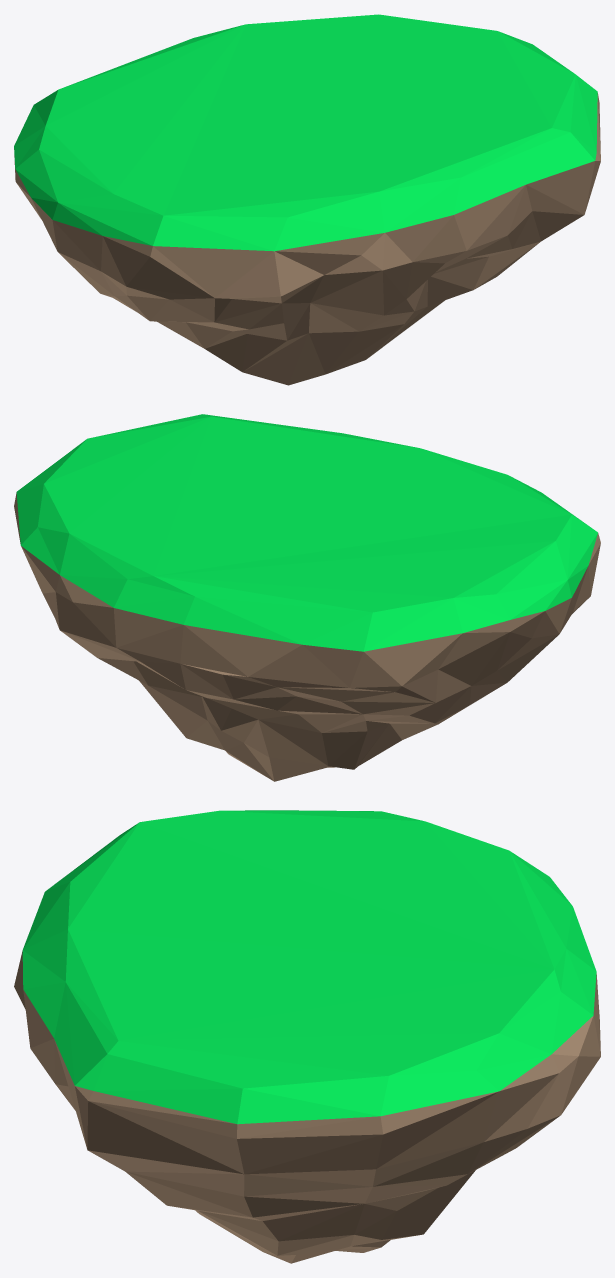
File: Platformresize.fbx
3 views of the same model, one above another, from view 1: azimuth 30°, elevation 25°; view 2: azimuth 150°, elevation 25°; view 3: azimuth 270°, elevation 25° (orthographic). The views are drawn at different scales.
Visible parts, largest first — view 1: polySurface1; view 2: polySurface1; view 3: polySurface1.
Boxes of the visible parts, x1=… form: polySurface1: x1=14, y1=14, x2=600, y2=385; polySurface1: x1=14, y1=414, x2=600, y2=781; polySurface1: x1=14, y1=810, x2=600, y2=1263.
Size of the model in its own units: 22.64 by 10.55 by 18.14.
